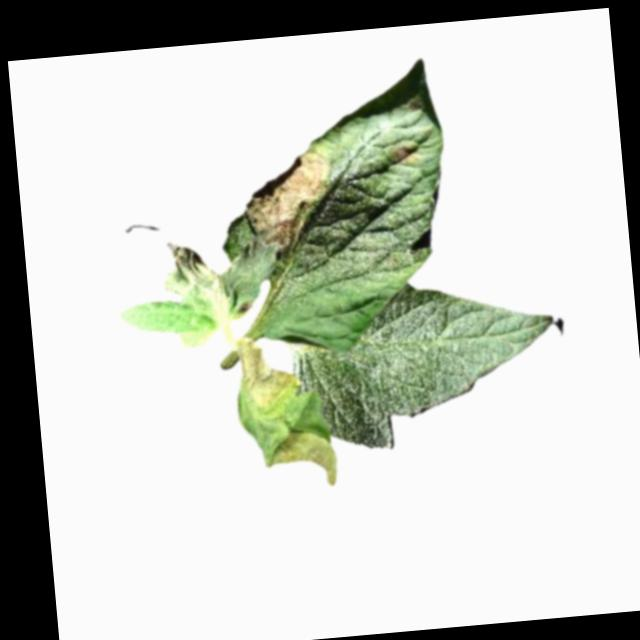Late_blight: (160, 232, 284, 328), (241, 150, 337, 262), (255, 411, 340, 492), (233, 330, 301, 419), (385, 141, 418, 169)
